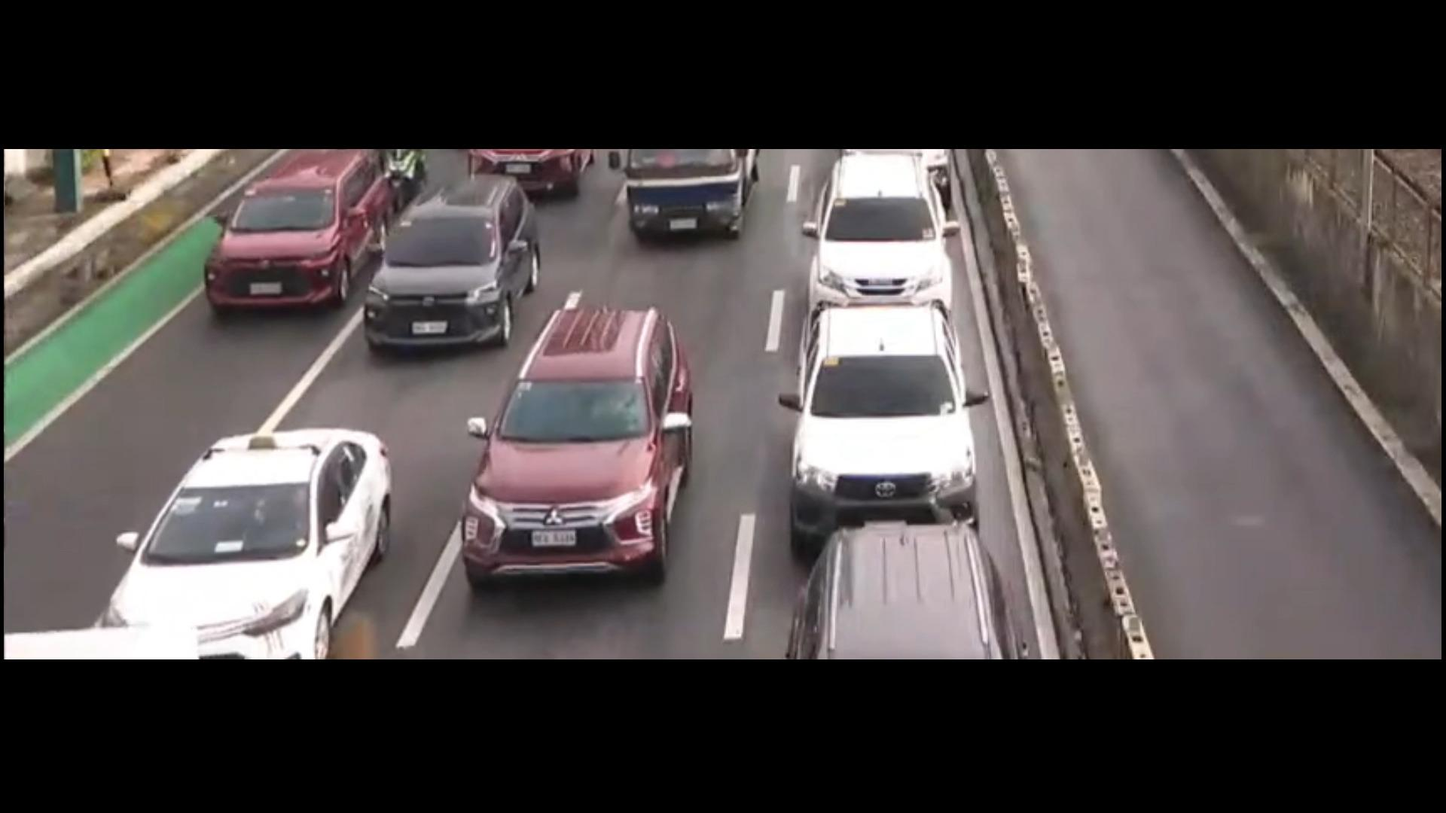SUV: (462, 307, 687, 575), (783, 295, 984, 553), (776, 524, 1025, 658), (205, 151, 390, 310), (361, 181, 532, 351), (800, 152, 954, 328)
Sedan: (83, 420, 396, 655)
